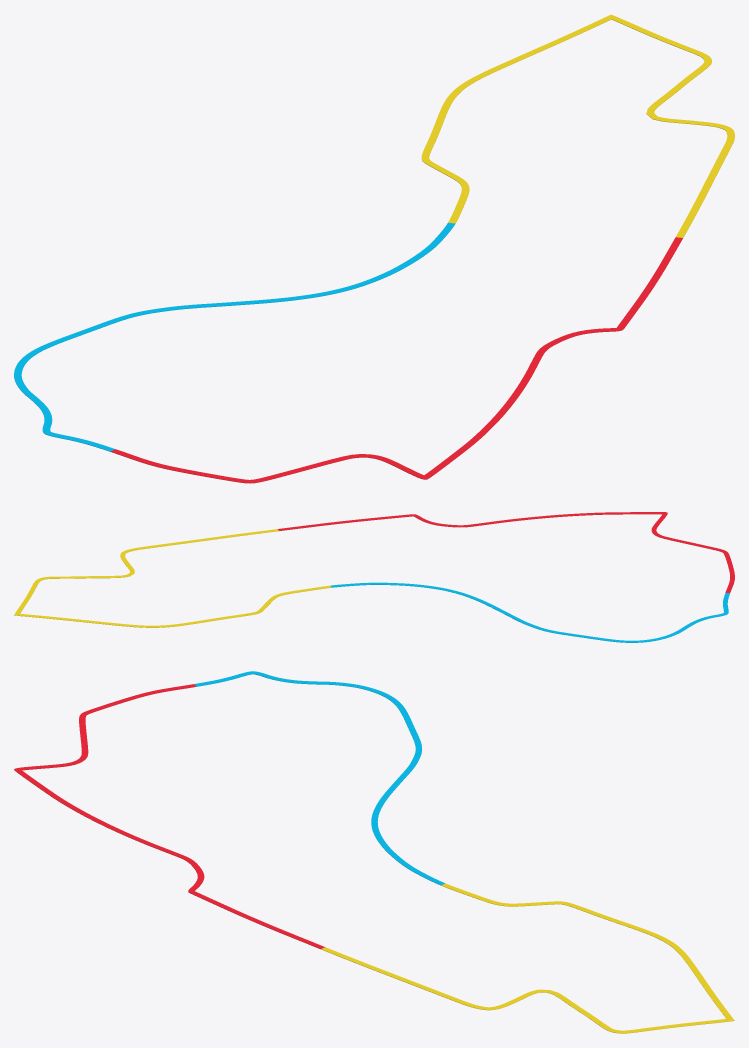
File: MelbourneSectors.glb
The picture shows the model from 3 angles, top to bottom: view 1: azimuth 30°, elevation 25°; view 2: azimuth 150°, elevation 25°; view 3: azimuth 270°, elevation 25°; orthographic projection. The views are drawn at different scales.
Parts seen in each view (by area): view 1: SectorStrip_3, SectorStrip_1, SectorStrip_2; view 2: SectorStrip_3, SectorStrip_1, SectorStrip_2; view 3: SectorStrip_3, SectorStrip_1, SectorStrip_2.
Boxes of the visible parts, <box> form: SectorStrip_3: <box>421,14,734,237</box>; SectorStrip_1: <box>111,237,682,483</box>; SectorStrip_2: <box>14,222,454,451</box>; SectorStrip_3: <box>14,529,331,627</box>; SectorStrip_1: <box>278,512,734,593</box>; SectorStrip_2: <box>330,582,729,642</box>; SectorStrip_3: <box>321,883,734,1033</box>; SectorStrip_1: <box>14,684,324,949</box>; SectorStrip_2: <box>194,671,444,885</box>.
Bounding box in the file's own units: 15.84 × 0.006 × 13.33.
